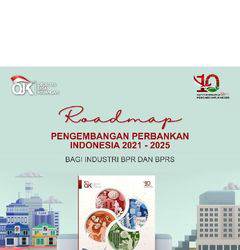ojk: (9, 73, 64, 98)
